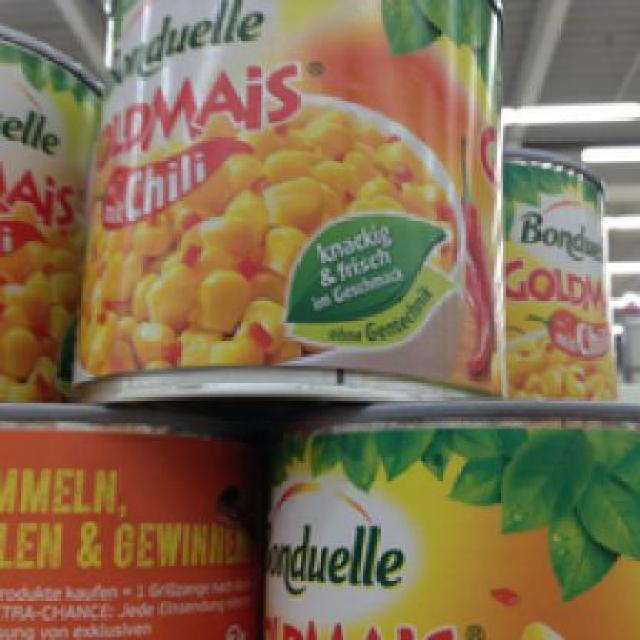Corn: (69, 0, 500, 400)
